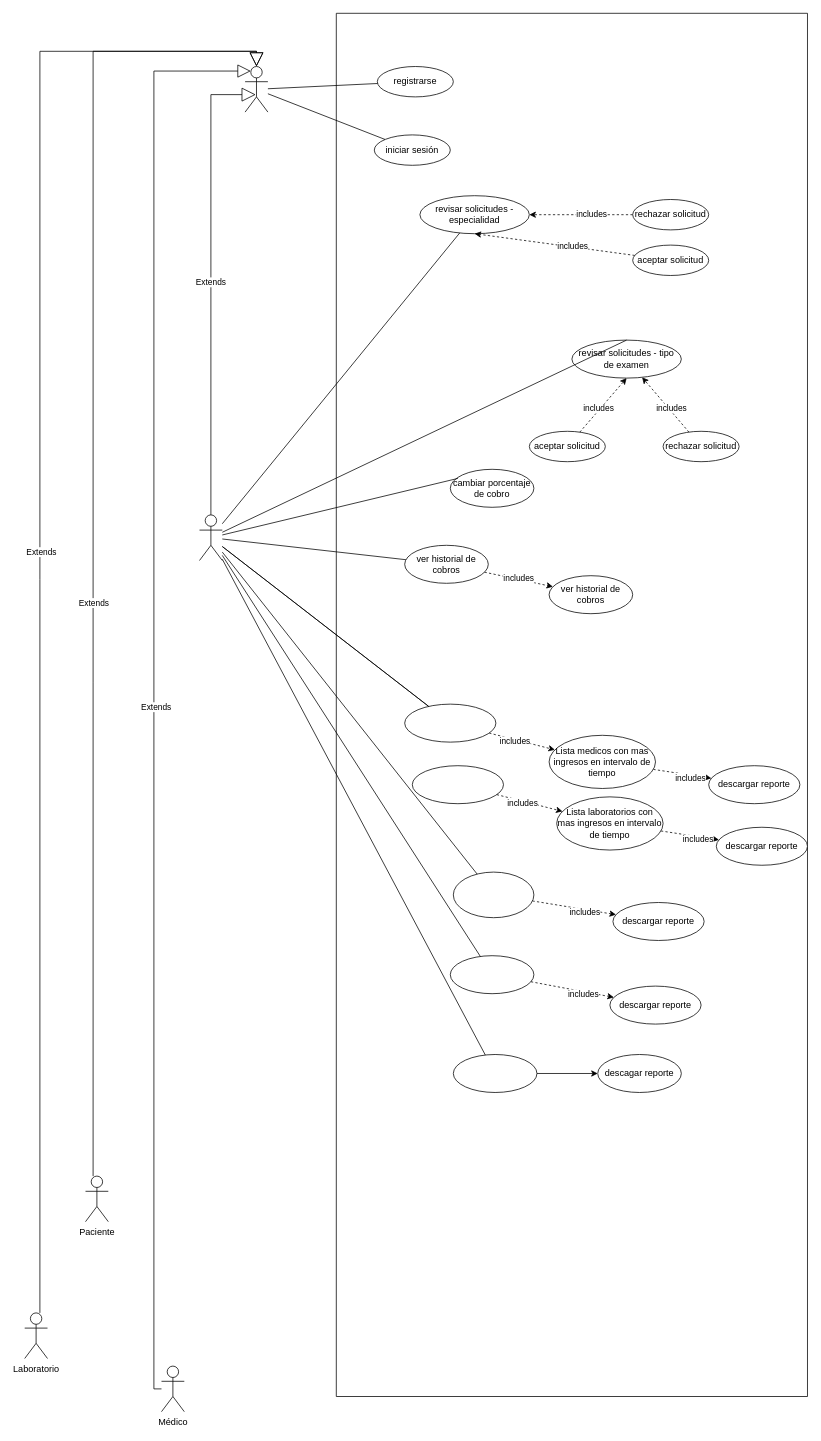
Some shapes in this 821 by 1441 pixel diagram are drawn without their labels. The centre of each missing label's shape, as x and y in pixels:
"Administrador" goes at pixel 210 537.
"Lista laboratorios con mas ingresos" goes at pixel 458 784.
"Lista medicos con mas ingresos" goes at pixel 450 722.
"total ingresos por consultas" goes at pixel 493 894.
"total ingresos por consultas y exámenes" goes at pixel 495 1073.
"total ingresos por exámenes" goes at pixel 492 974.
"Usuario" goes at pixel 256 89.
